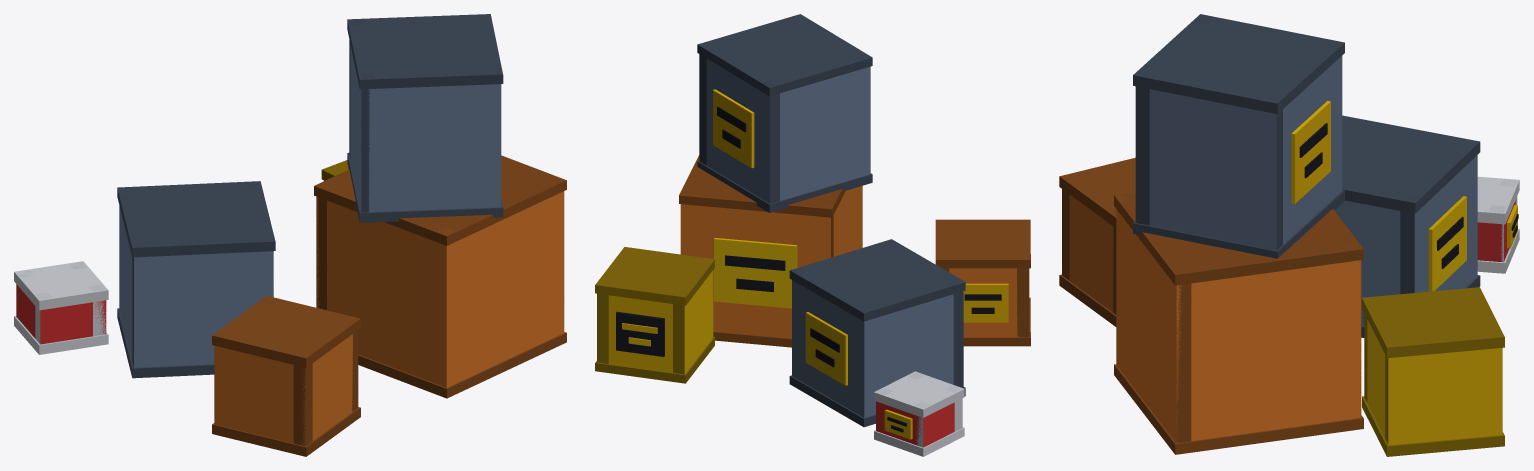
File: Decor_MechaHangar_Crates.fbx
3 views of the same model, side by side, from view 1: azimuth 30°, elevation 25°; view 2: azimuth 150°, elevation 25°; view 3: azimuth 270°, elevation 25° (orthographic). The views are drawn at different scales.
Visible parts, largest first — view 1: Crates_Body; view 2: Crates_Body; view 3: Crates_Body.
Boxes of the visible parts, left/top/right/bottom form: Crates_Body: left=14, top=14, right=566, bottom=456; Crates_Body: left=595, top=14, right=1030, bottom=456; Crates_Body: left=1059, top=14, right=1519, bottom=456.
Bounding box in the file's own units: 13.44 × 9.4 × 11.71.
